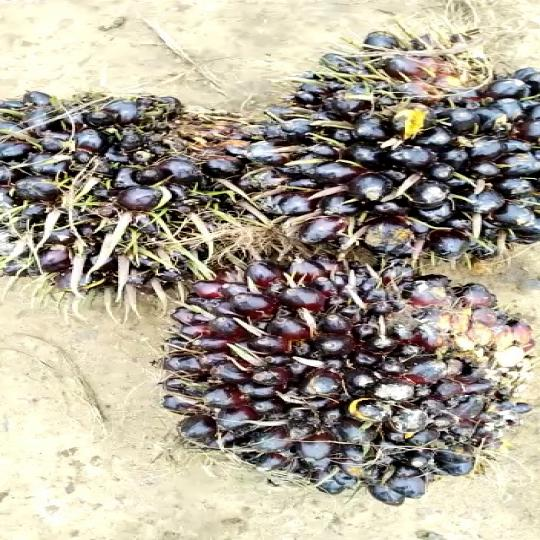mentah: (160, 253, 523, 500), (252, 22, 540, 275), (0, 83, 316, 301)
